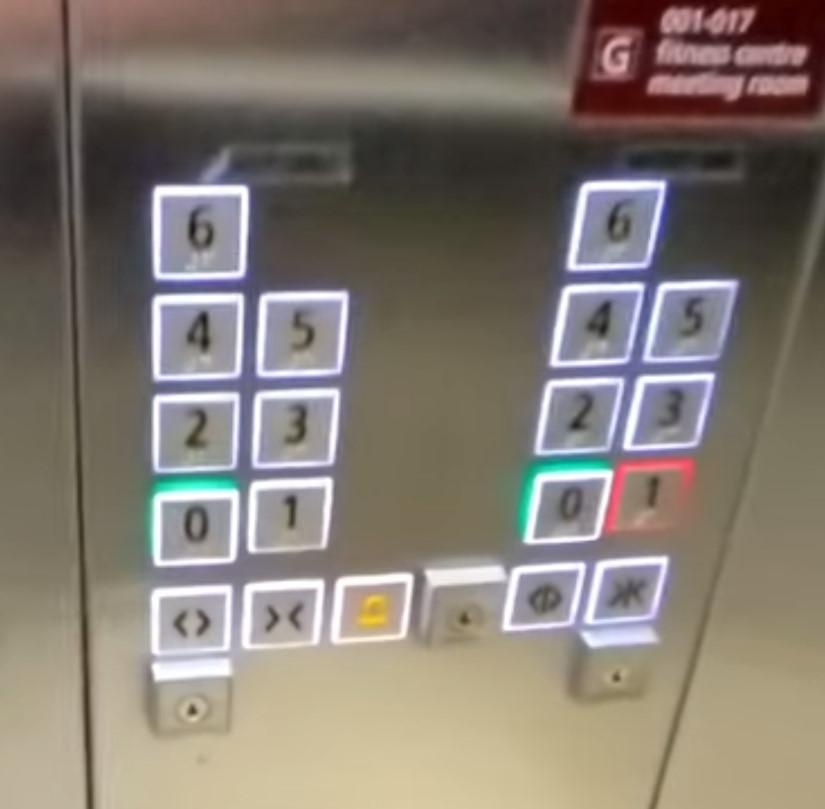0: (507, 455, 619, 556), (143, 477, 244, 576)
1: (598, 452, 703, 546), (241, 472, 336, 558)
2: (527, 368, 627, 465), (139, 388, 243, 480)
3: (619, 368, 719, 459), (245, 385, 343, 473)
4: (537, 276, 645, 377), (144, 285, 249, 384)
5: (252, 285, 351, 387), (641, 273, 743, 371)
6: (559, 169, 668, 285), (144, 179, 256, 287)
alarm: (331, 573, 415, 651)
bt_keyhole: (416, 564, 508, 654), (143, 656, 239, 742), (569, 627, 664, 704)
close: (580, 554, 674, 633), (240, 576, 331, 655)
open: (495, 554, 587, 635), (147, 583, 236, 660)
